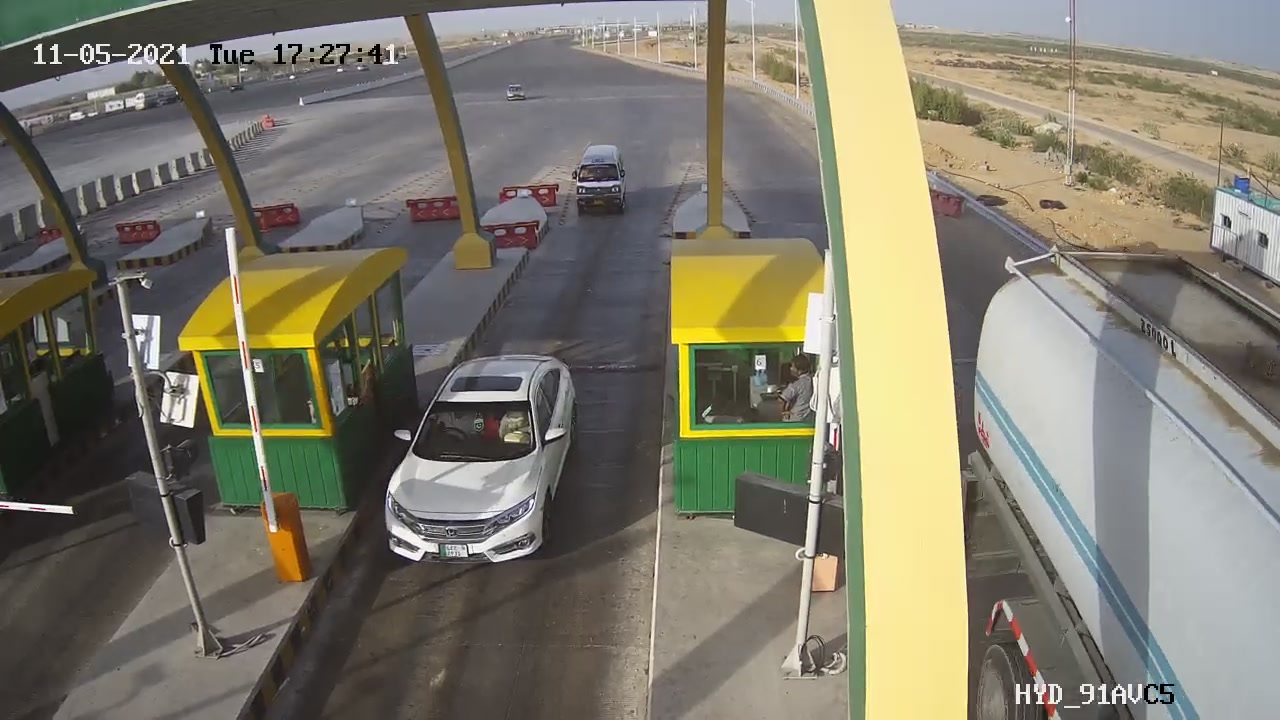F1: (370, 330, 590, 585)
